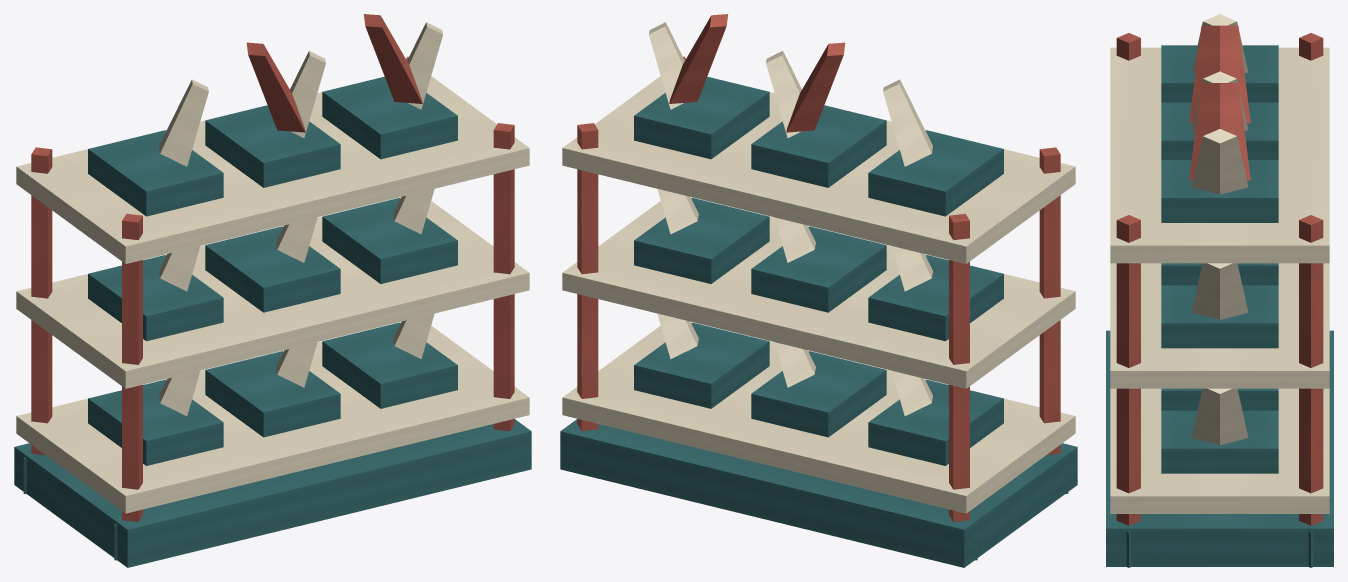
The model's file is atlas100-s037-a02.lod2.glb.
3 views of the same model, side by side, from view 1: azimuth 30°, elevation 25°; view 2: azimuth 150°, elevation 25°; view 3: azimuth 270°, elevation 25° (orthographic).
Parts seen in each view (by area): view 1: atlas100-s037-a02:part-000, atlas100-s037-a02:part-031, atlas100-s037-a02:part-011, atlas100-s037-a02:part-021, atlas100-s037-a02:part-028, atlas100-s037-a02:part-015, atlas100-s037-a02:part-025, atlas100-s037-a02:part-032, atlas100-s037-a02:part-018, atlas100-s037-a02:part-035, atlas100-s037-a02:part-038, atlas100-s037-a02:part-012 (+15 smaller); view 2: atlas100-s037-a02:part-000, atlas100-s037-a02:part-031, atlas100-s037-a02:part-011, atlas100-s037-a02:part-021, atlas100-s037-a02:part-028, atlas100-s037-a02:part-015, atlas100-s037-a02:part-025, atlas100-s037-a02:part-032, atlas100-s037-a02:part-018, atlas100-s037-a02:part-035, atlas100-s037-a02:part-038, atlas100-s037-a02:part-012 (+15 smaller); view 3: atlas100-s037-a02:part-031, atlas100-s037-a02:part-000, atlas100-s037-a02:part-021, atlas100-s037-a02:part-011, atlas100-s037-a02:part-028, atlas100-s037-a02:part-007, atlas100-s037-a02:part-009, atlas100-s037-a02:part-018, atlas100-s037-a02:part-038, atlas100-s037-a02:part-032, atlas100-s037-a02:part-035, atlas100-s037-a02:part-036 (+10 smaller).
Part boxes in pixels (left/top/right/bottom): atlas100-s037-a02:part-000: left=14, top=419, right=531, bottom=567; atlas100-s037-a02:part-031: left=16, top=76, right=529, bottom=263; atlas100-s037-a02:part-011: left=16, top=322, right=529, bottom=513; atlas100-s037-a02:part-021: left=16, top=197, right=529, bottom=388; atlas100-s037-a02:part-028: left=322, top=198, right=457, bottom=283; atlas100-s037-a02:part-015: left=205, top=351, right=340, bottom=437; atlas100-s037-a02:part-025: left=205, top=226, right=340, bottom=312; atlas100-s037-a02:part-032: left=88, top=130, right=223, bottom=216; atlas100-s037-a02:part-018: left=322, top=322, right=457, bottom=408; atlas100-s037-a02:part-035: left=205, top=105, right=340, bottom=187; atlas100-s037-a02:part-038: left=322, top=76, right=457, bottom=159; atlas100-s037-a02:part-012: left=88, top=379, right=223, bottom=465; atlas100-s037-a02:part-000: left=560, top=419, right=1077, bottom=567; atlas100-s037-a02:part-031: left=562, top=76, right=1075, bottom=263; atlas100-s037-a02:part-011: left=562, top=322, right=1075, bottom=513; atlas100-s037-a02:part-021: left=562, top=197, right=1075, bottom=388; atlas100-s037-a02:part-028: left=634, top=198, right=769, bottom=283; atlas100-s037-a02:part-015: left=751, top=351, right=886, bottom=437; atlas100-s037-a02:part-025: left=751, top=226, right=886, bottom=312; atlas100-s037-a02:part-032: left=868, top=130, right=1003, bottom=216; atlas100-s037-a02:part-018: left=634, top=322, right=769, bottom=408; atlas100-s037-a02:part-035: left=751, top=105, right=886, bottom=187; atlas100-s037-a02:part-038: left=634, top=76, right=769, bottom=159; atlas100-s037-a02:part-012: left=868, top=379, right=1003, bottom=465; atlas100-s037-a02:part-031: left=1110, top=47, right=1329, bottom=263; atlas100-s037-a02:part-000: left=1106, top=330, right=1333, bottom=566; atlas100-s037-a02:part-021: left=1110, top=263, right=1329, bottom=388; atlas100-s037-a02:part-011: left=1110, top=388, right=1329, bottom=513; atlas100-s037-a02:part-028: left=1161, top=285, right=1278, bottom=348; atlas100-s037-a02:part-007: left=1299, top=215, right=1323, bottom=525; atlas100-s037-a02:part-009: left=1116, top=215, right=1140, bottom=525; atlas100-s037-a02:part-018: left=1161, top=410, right=1278, bottom=473; atlas100-s037-a02:part-038: left=1161, top=160, right=1278, bottom=222; atlas100-s037-a02:part-032: left=1161, top=45, right=1278, bottom=102; atlas100-s037-a02:part-035: left=1161, top=102, right=1278, bottom=159; atlas100-s037-a02:part-036: left=1189, top=25, right=1250, bottom=123.
Size of the model in its own units: 2.91 by 2.97 by 1.4.
Materials: 3 (3 with a texture image).
